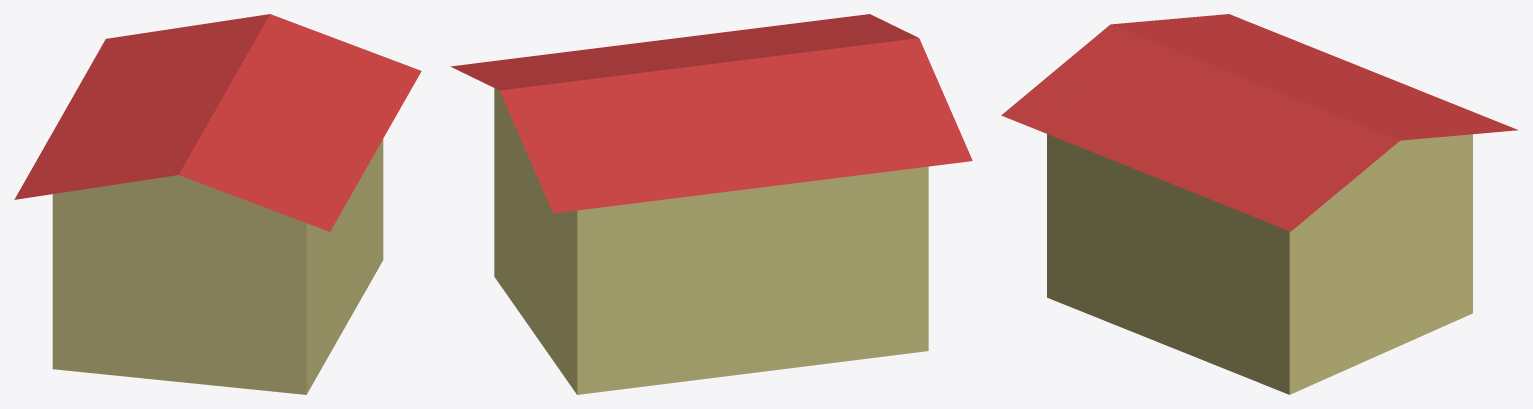
3 views of the same model, side by side, from view 1: azimuth 30°, elevation 25°; view 2: azimuth 150°, elevation 25°; view 3: azimuth 270°, elevation 25° (orthographic). The views are drawn at different scales.
Size of the model in its own units: 15.84 by 15.91 by 7.63.
